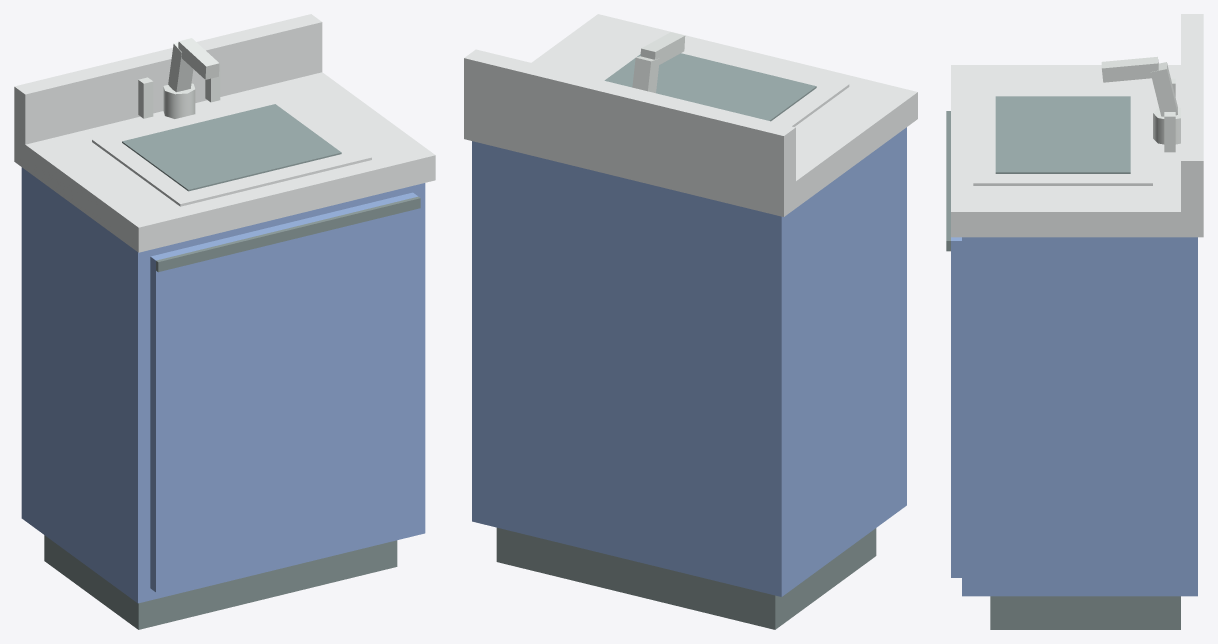
File: vanityCompact.glb
The picture shows the model from 3 angles, left to right: view 1: azimuth 30°, elevation 25°; view 2: azimuth 150°, elevation 25°; view 3: azimuth 270°, elevation 25°; orthographic projection. The views are drawn at different scales.
Parts seen in each view (by area): view 1: vanityCompact; view 2: vanityCompact; view 3: vanityCompact.
Part boxes in pixels (box(x1,y1,x2,y2)): vanityCompact: box(14, 14, 435, 629); vanityCompact: box(464, 14, 917, 629); vanityCompact: box(946, 14, 1203, 629).
Size of the model in its own units: 0.31 by 0.497 by 0.229.
